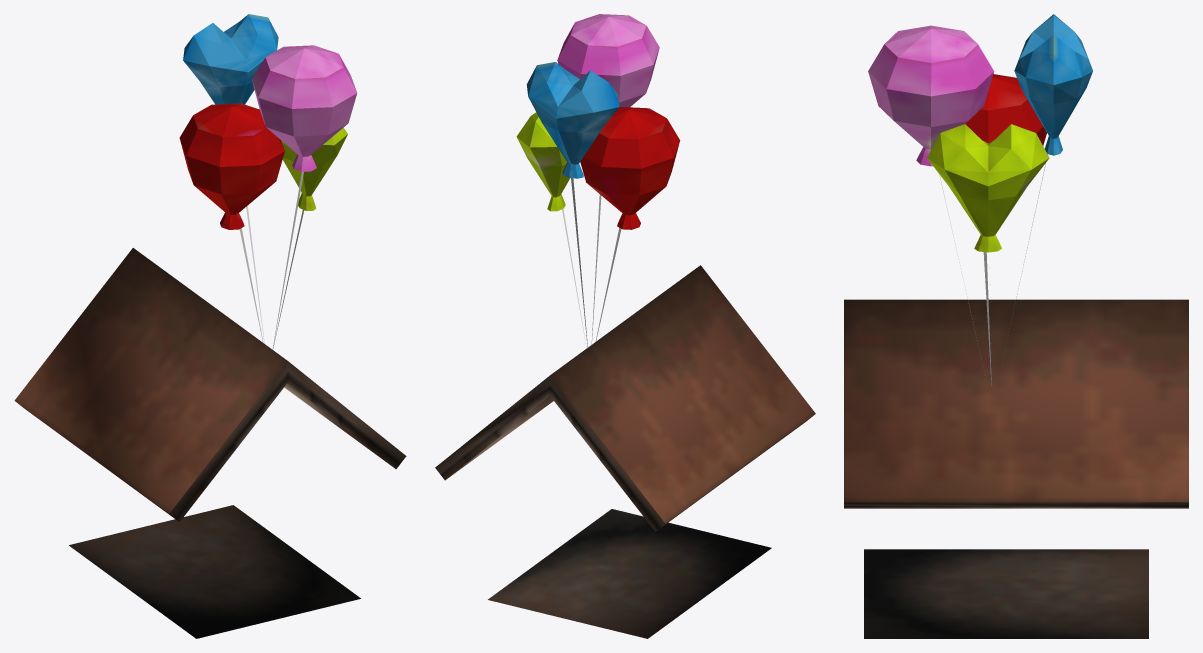
The model's file is batch_0001.obj.
3 views of the same model, side by side, from view 1: azimuth 30°, elevation 25°; view 2: azimuth 150°, elevation 25°; view 3: azimuth 270°, elevation 25° (orthographic). The views are drawn at different scales.
Visible parts, largest first — view 1: batch_0001; view 2: batch_0001; view 3: batch_0001.
Part boxes in pixels (box(x1,y1,x2,y2)): batch_0001: box(14, 14, 406, 638); batch_0001: box(435, 14, 815, 638); batch_0001: box(844, 14, 1188, 638).
Bounding box in the file's own units: 92 × 198 × 104.
Materials: 1 (1 with a texture image).
